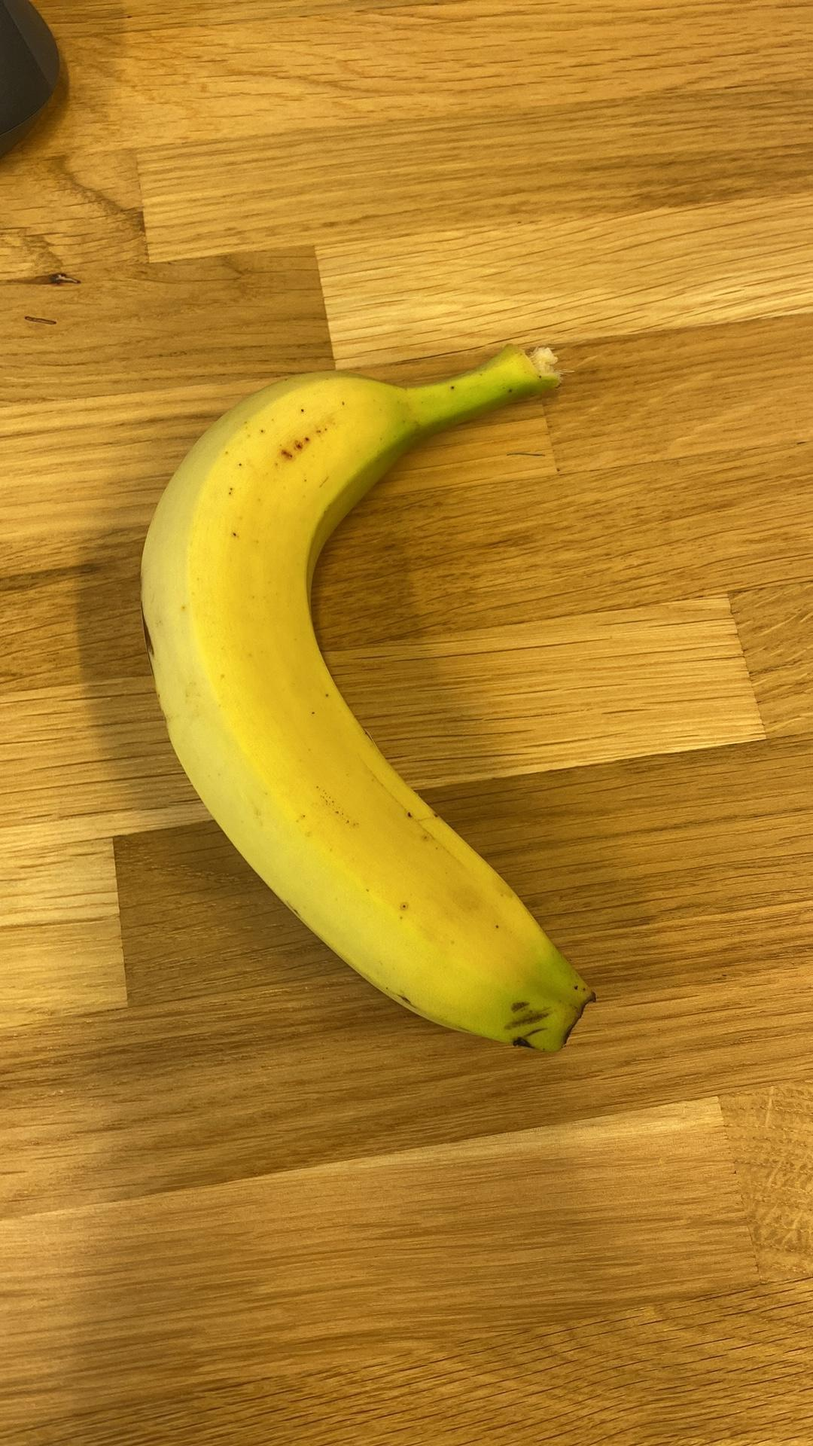banana: (139, 339, 604, 1049)
